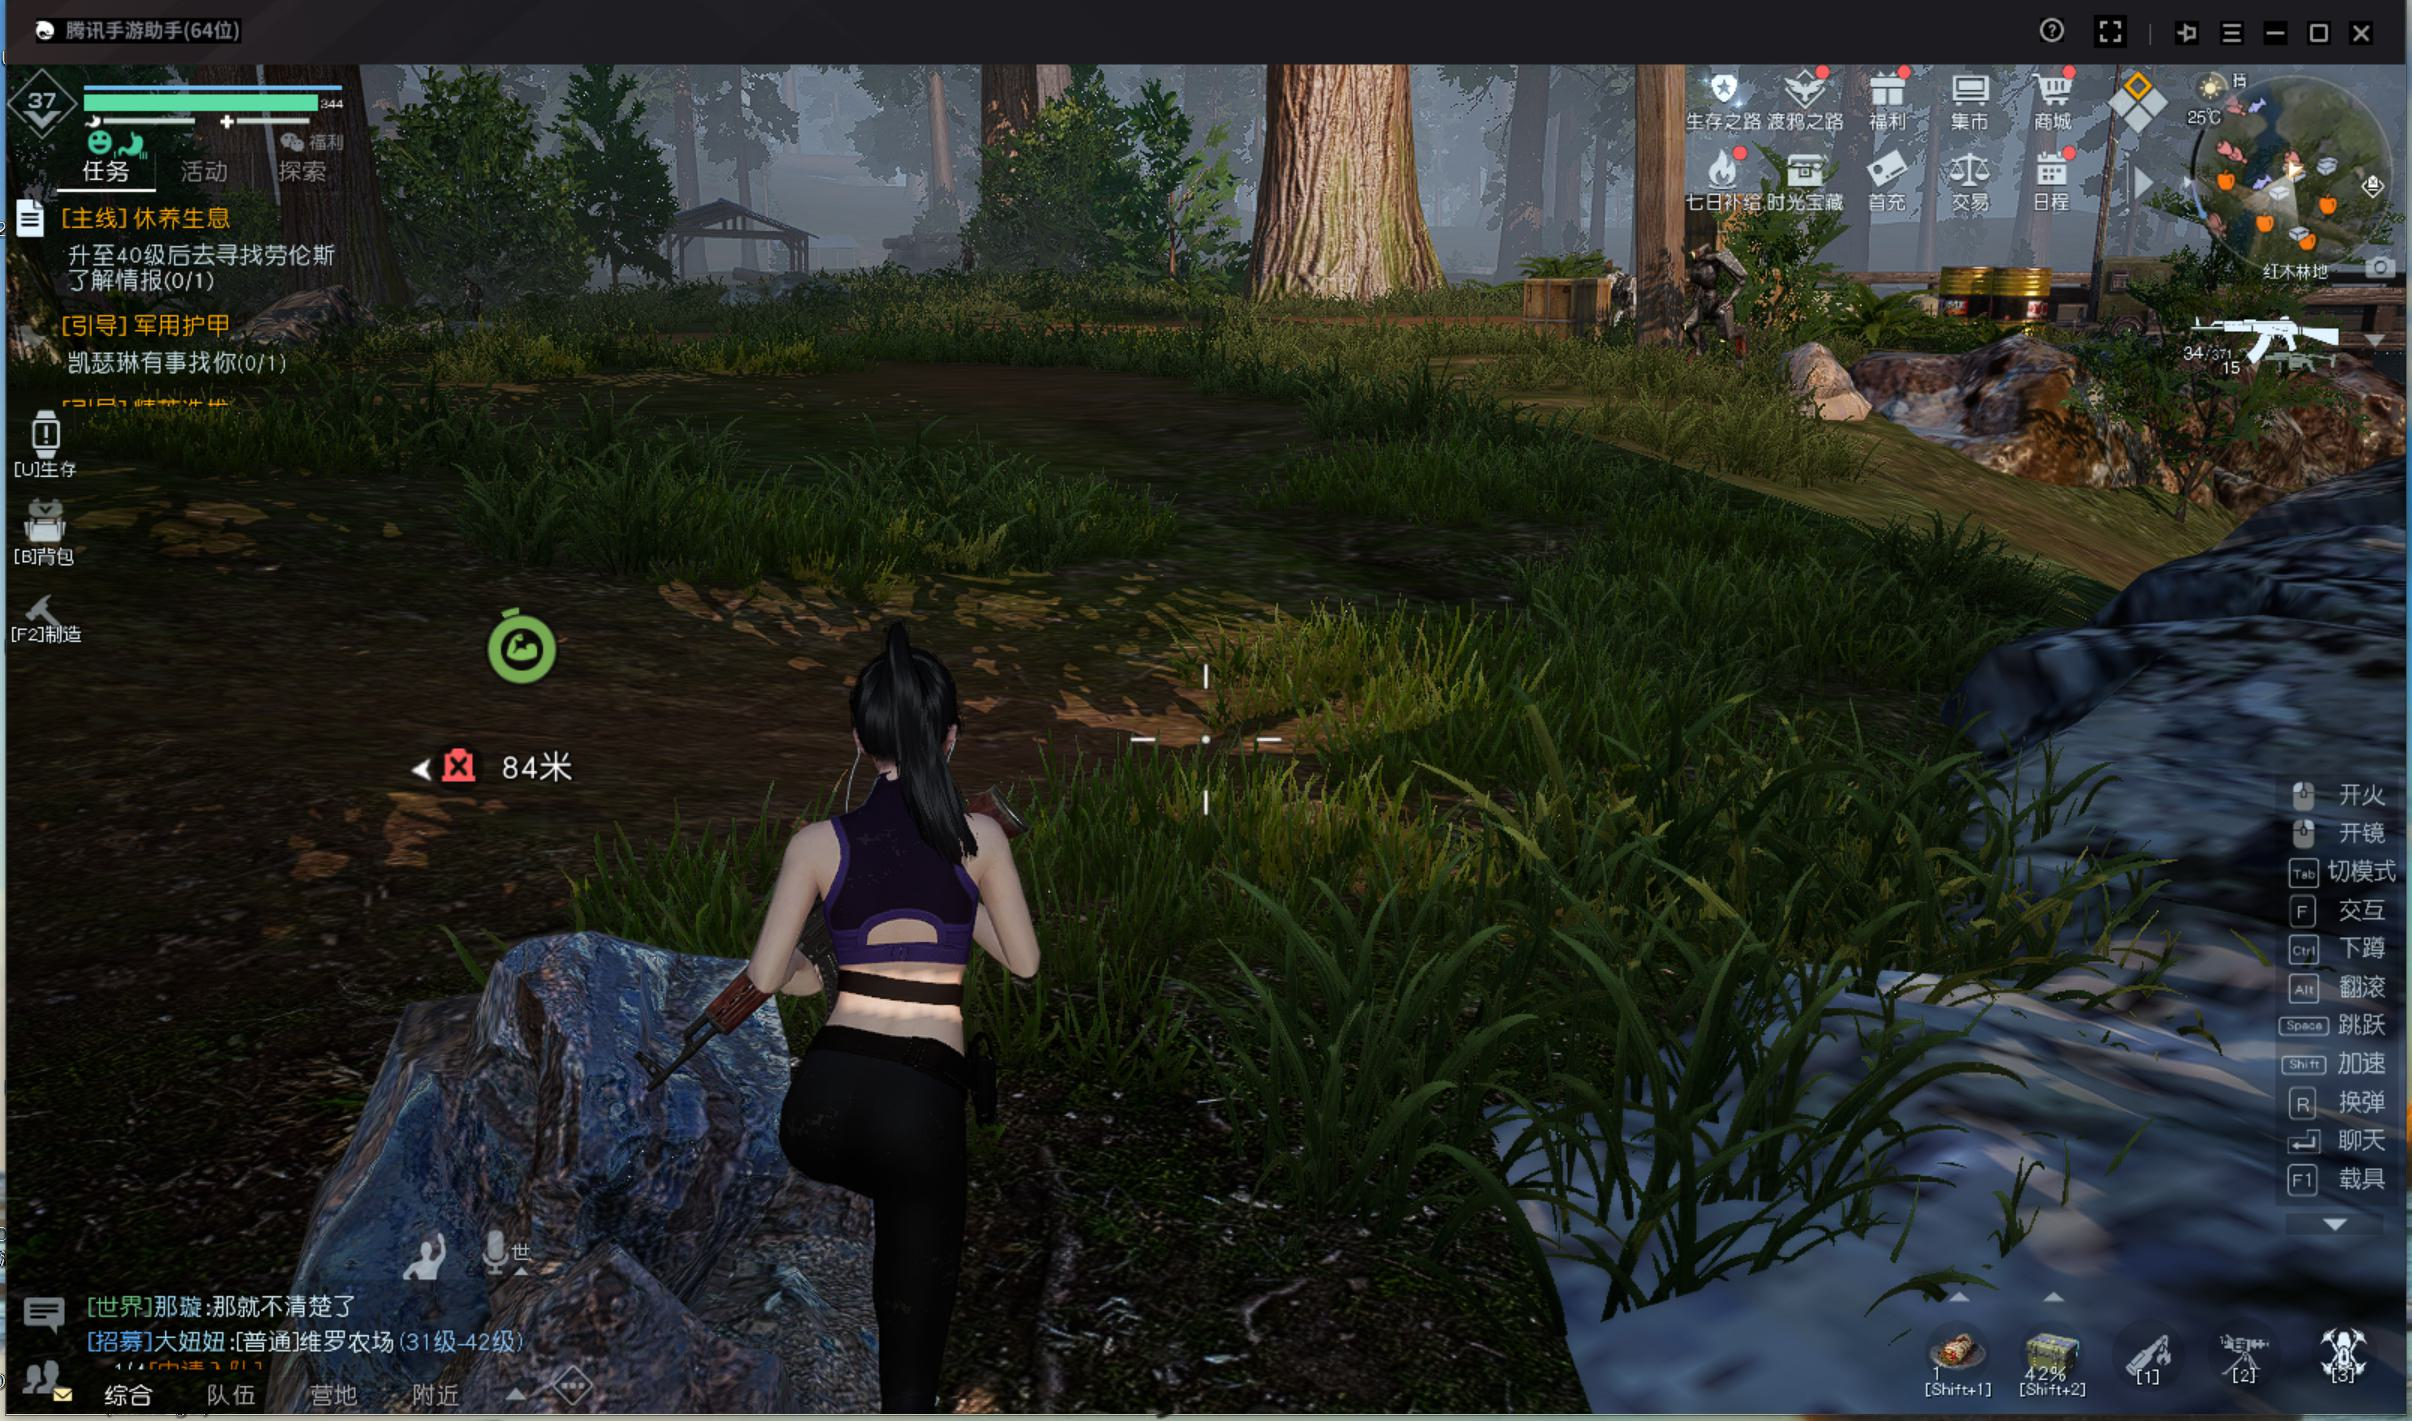stone: (276, 930, 812, 1363)
tree: (1233, 81, 1438, 310)
